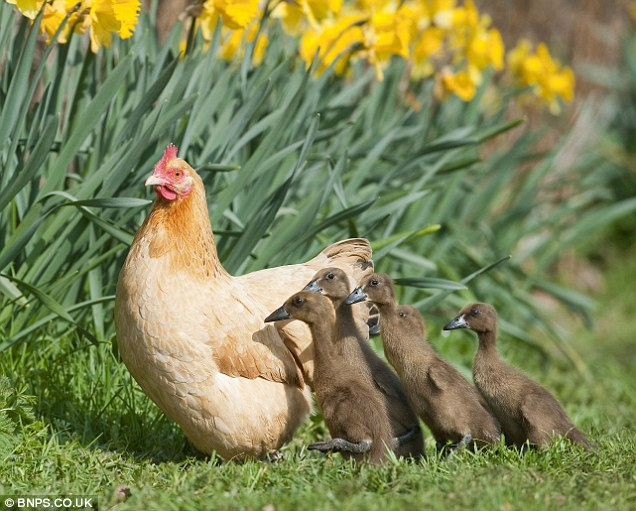ayam: (86, 134, 265, 464)
bebek: (261, 253, 608, 472)
